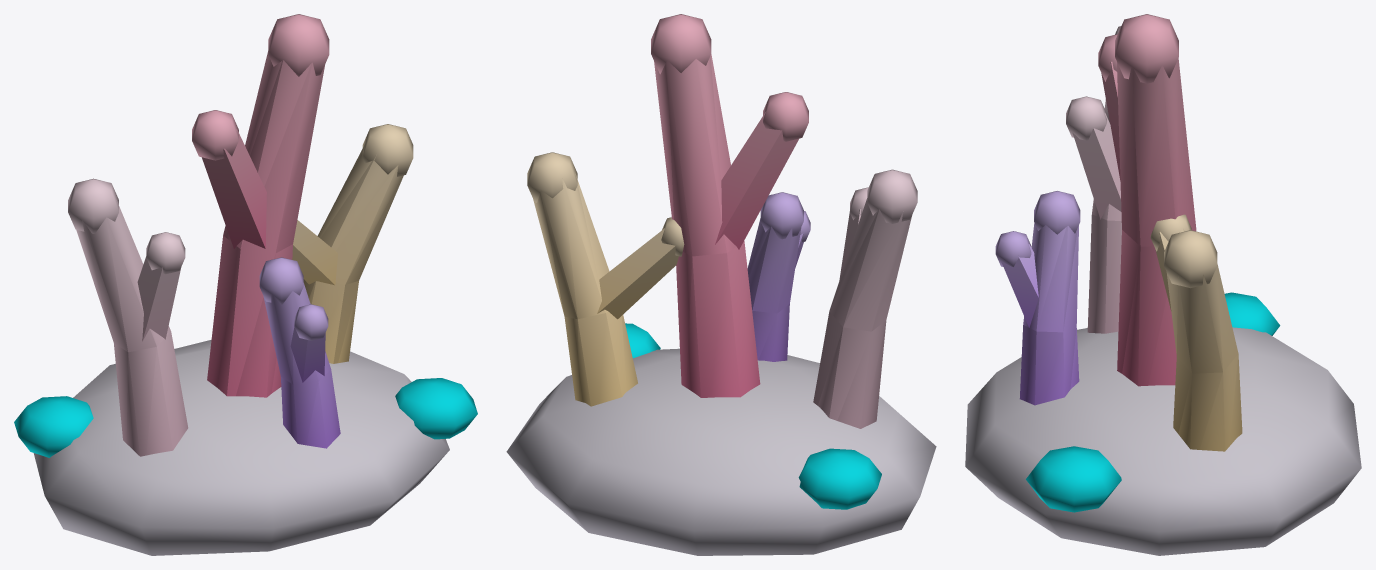
File: s6Coral.glb
3 views of the same model, side by side, from view 1: azimuth 30°, elevation 25°; view 2: azimuth 150°, elevation 25°; view 3: azimuth 270°, elevation 25° (orthographic). The views are drawn at different scales.
Visible parts, largest first — view 1: Body; view 2: Body; view 3: Body.
Boxes of the visible parts, box(x1,y1,x2,y2) form: Body: box(14, 14, 477, 555); Body: box(506, 14, 936, 555); Body: box(965, 14, 1361, 555).
Size of the model in its own units: 3.89 by 4.75 by 3.27.
